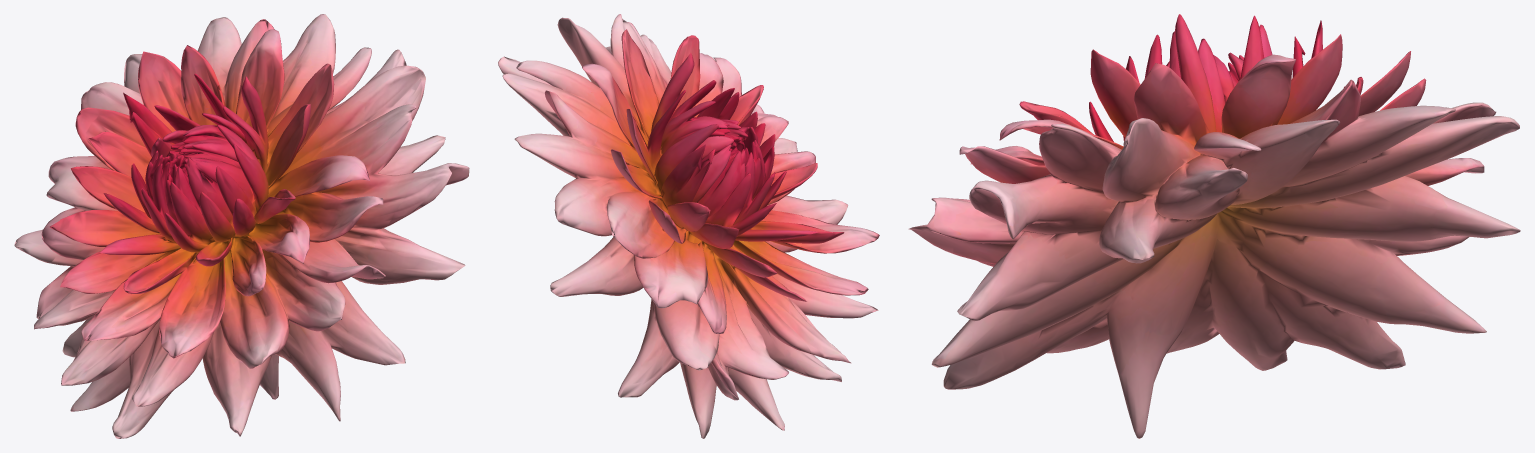
File: flower-ovulatory.glb
3 views of the same model, side by side, from view 1: azimuth 30°, elevation 25°; view 2: azimuth 150°, elevation 25°; view 3: azimuth 270°, elevation 25° (orthographic). The views are drawn at different scales.
Visible parts, largest first — view 1: tripo_node_36995a7a-4362-4b32-be31-b9a8c76d1b4a; view 2: tripo_node_36995a7a-4362-4b32-be31-b9a8c76d1b4a; view 3: tripo_node_36995a7a-4362-4b32-be31-b9a8c76d1b4a.
Part boxes in pixels (x1,y1,x2,y2): tripo_node_36995a7a-4362-4b32-be31-b9a8c76d1b4a: (14, 14, 469, 438); tripo_node_36995a7a-4362-4b32-be31-b9a8c76d1b4a: (498, 14, 879, 438); tripo_node_36995a7a-4362-4b32-be31-b9a8c76d1b4a: (908, 14, 1520, 438).
Bounding box in the file's own units: 0.8748 × 0.7647 × 0.9737.
Materials: 1 (1 with a texture image).
